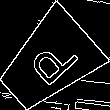P_SW: (18, 32, 79, 93)
